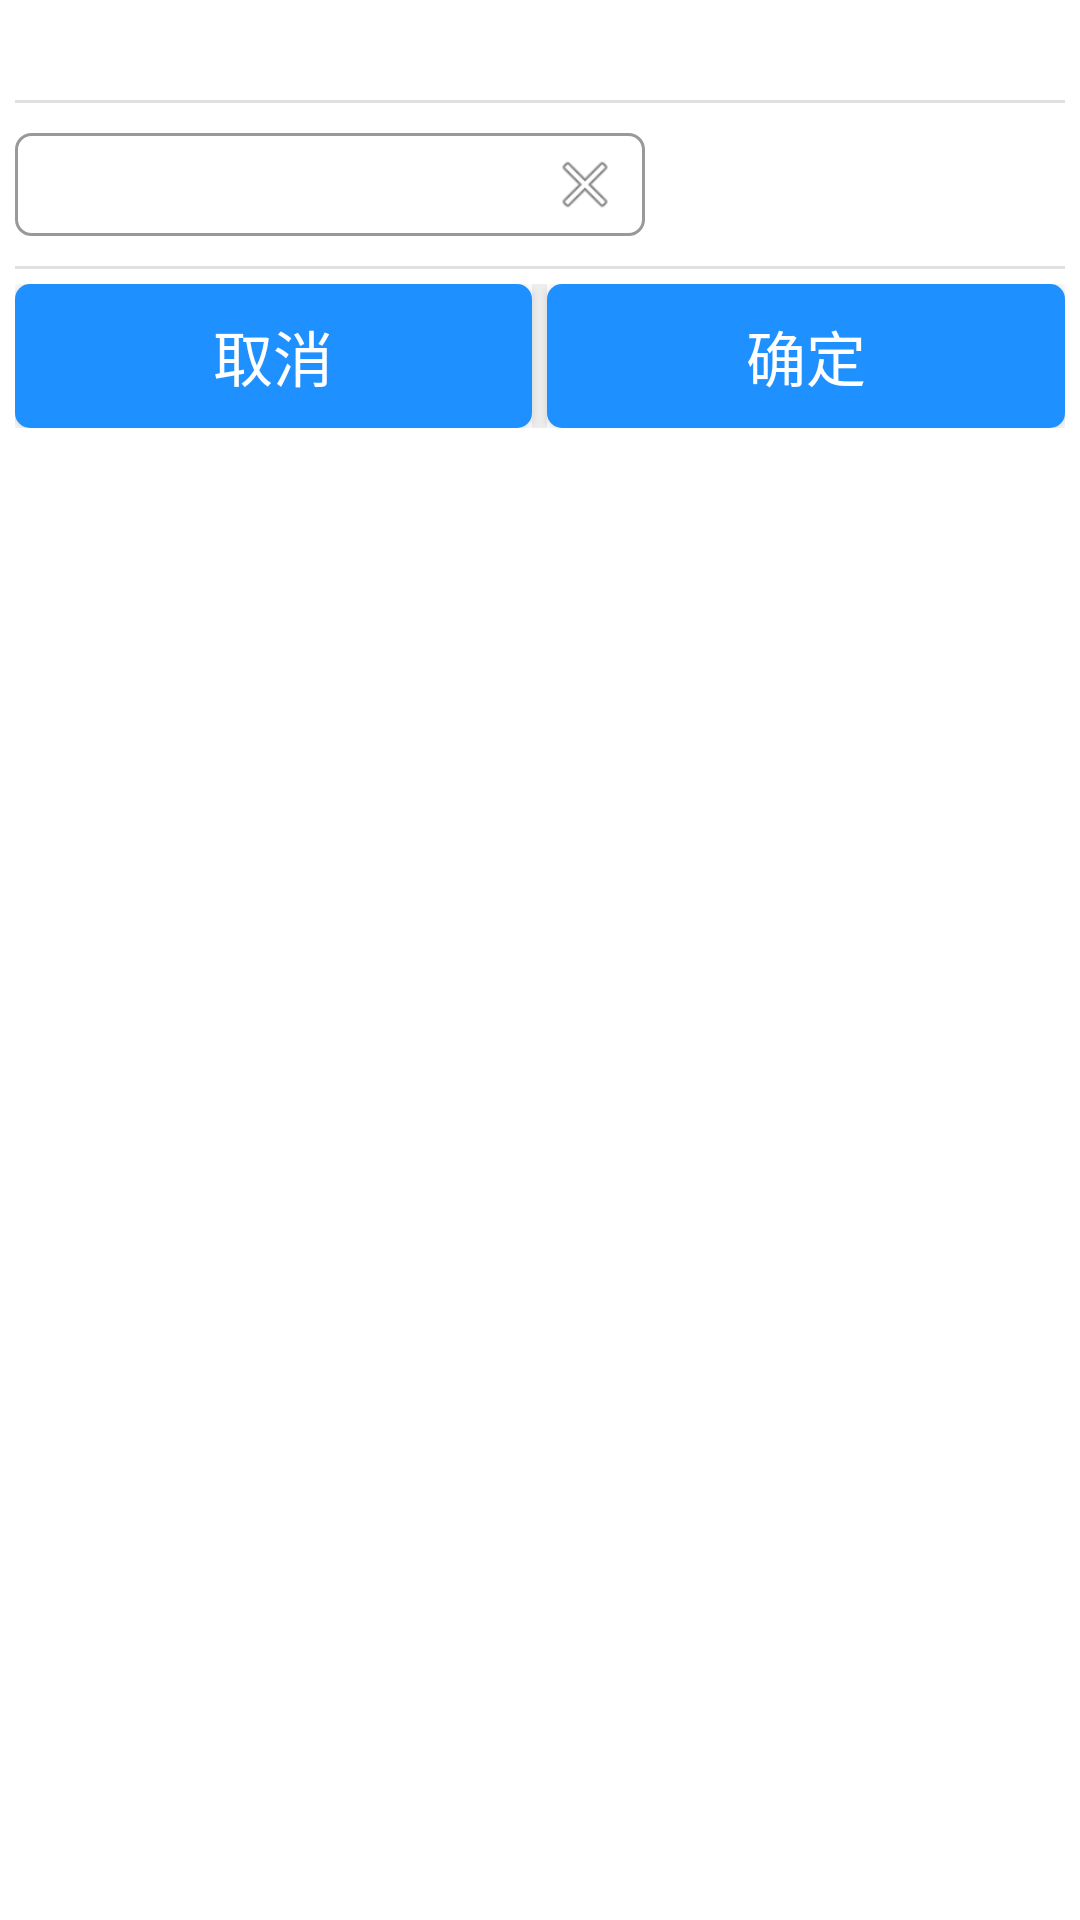

Where icons sit on this 1080px x 1920px app screen, as {"x1": x1, "y1": y1, "x2": x2, "y2": y2}:
close clear cancel: {"x1": 525, "y1": 133, "x2": 645, "y2": 236}
